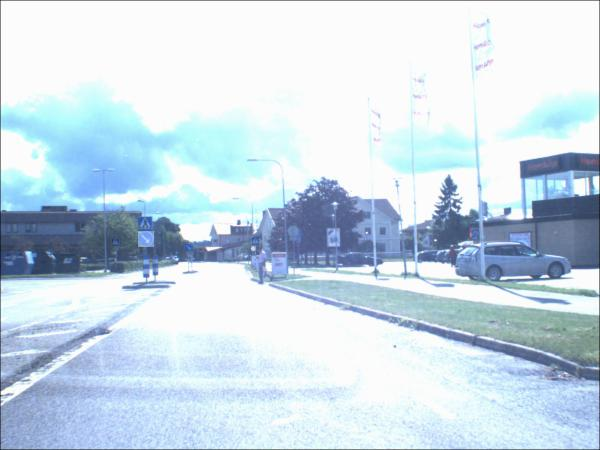PASS_RIGHT_SIDE: (139, 232, 156, 249), (186, 245, 195, 253)
PEDESTRIAN_CROSSING: (139, 218, 154, 233), (254, 238, 262, 247), (113, 241, 121, 249)
PRIORITY_ROAD: (252, 248, 258, 254)
